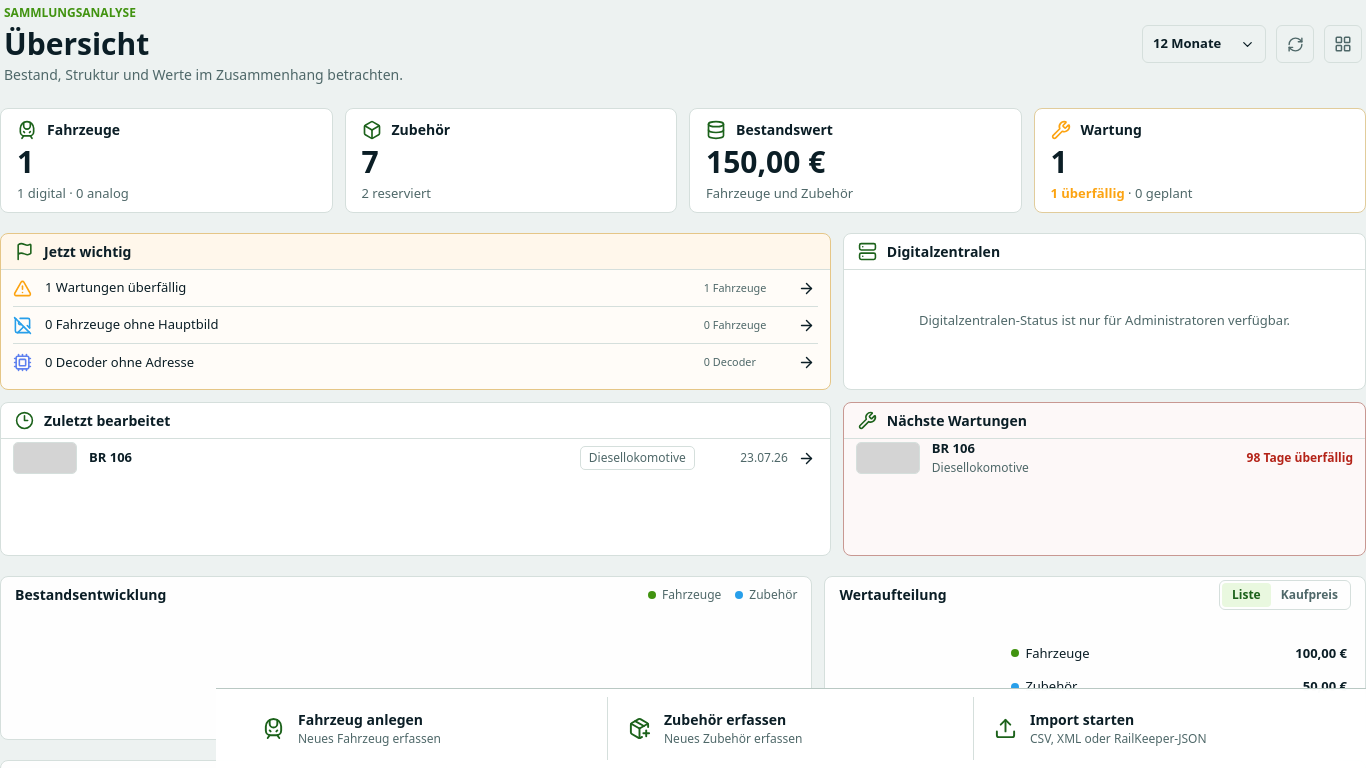
Scenario: OverviewView › toggles the metric dialog and discards an unfinished preview
Expected: the text "1 digital · 0 analog" is shown, [17,184,129,202]
Click the button named "Kacheln anpassen": (1343, 44) [1324,25,1362,63]
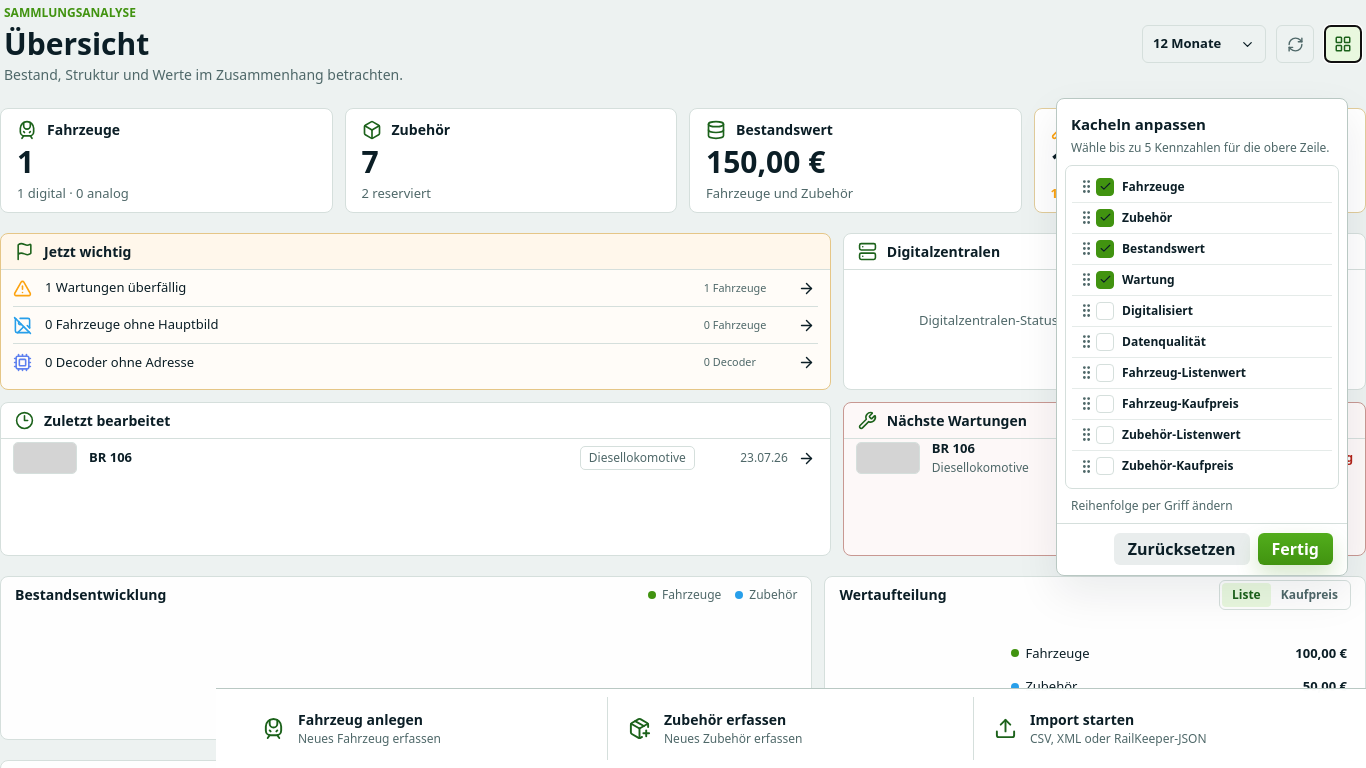
Click the checkbox labelled "Wartung": (1105, 280) [1096,270,1114,288]
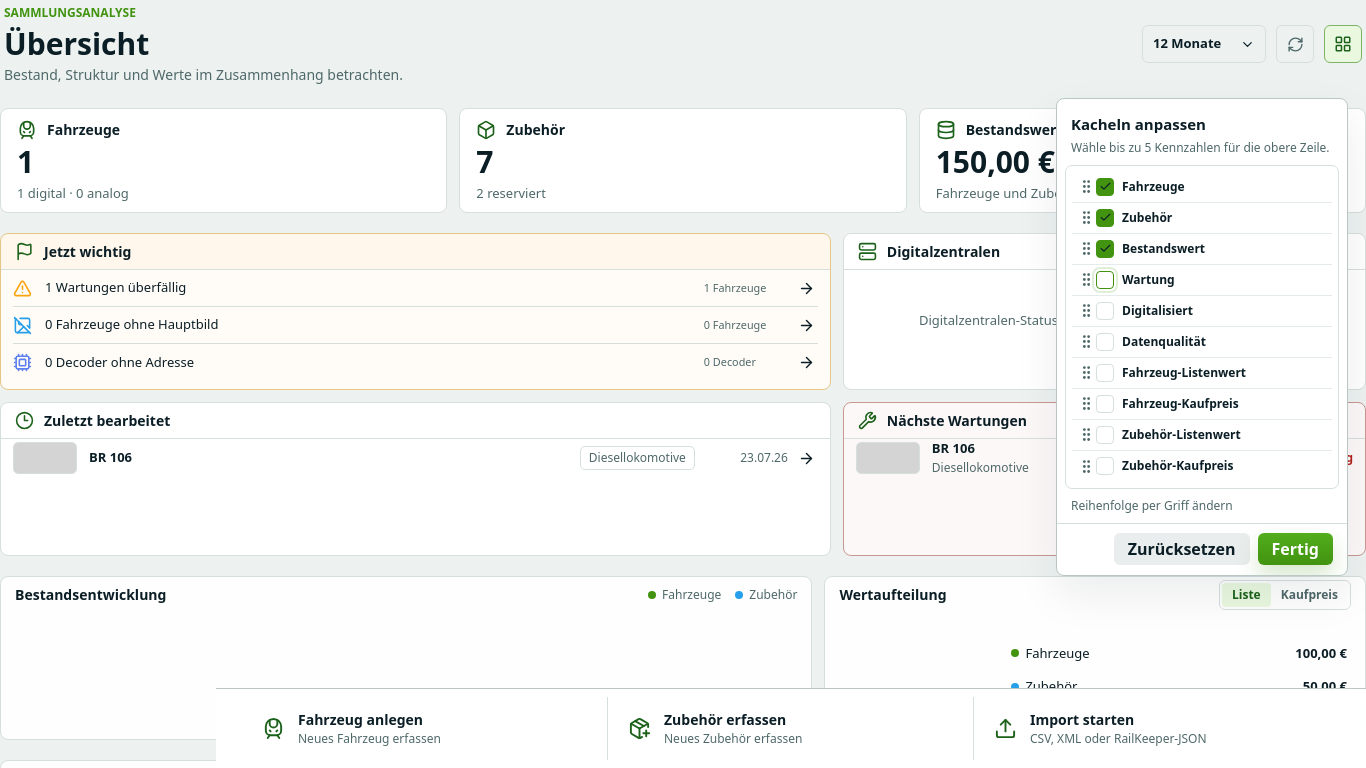
Click the button named "Kacheln anpassen": (1343, 44) [1324,25,1362,63]
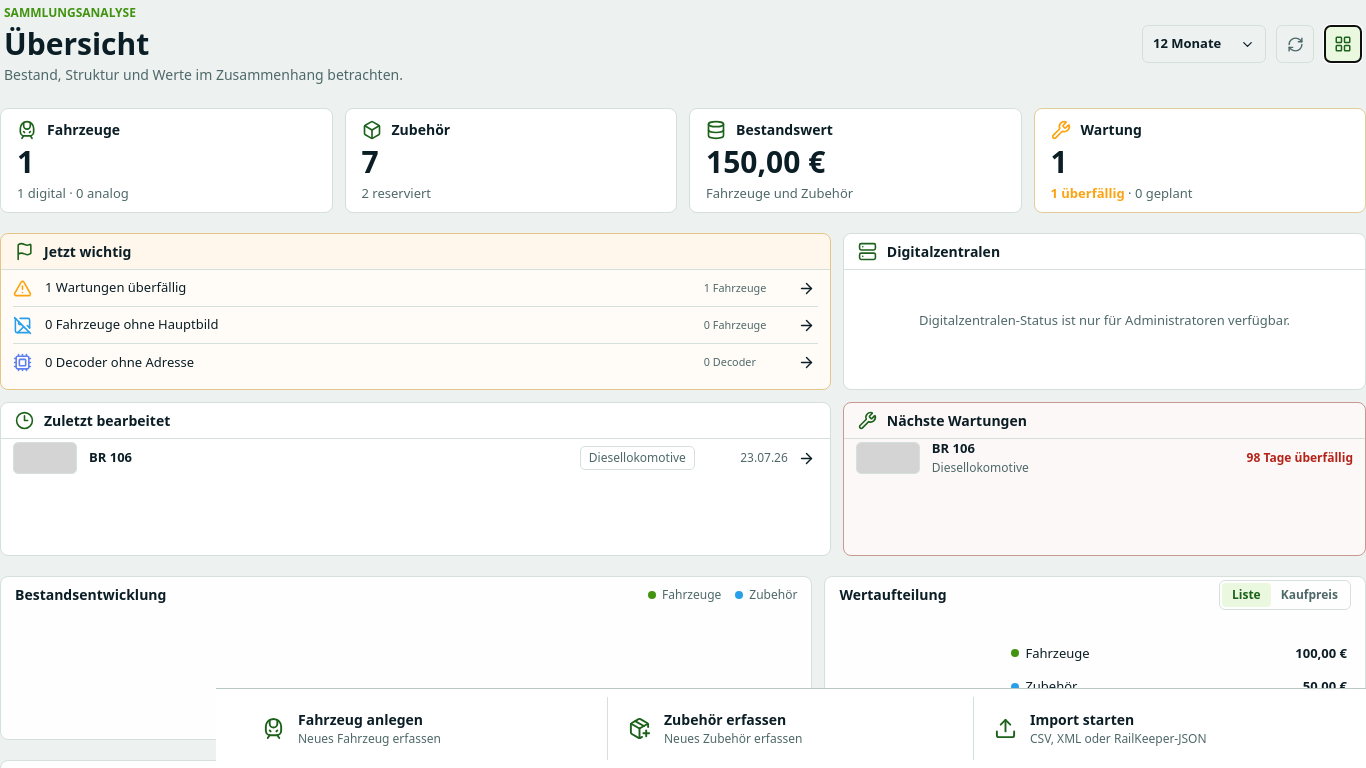
Expected: the text "Wartung" is shown, [1080,119,1142,140]
Now the heading "Kacheln anpassen" is gone
